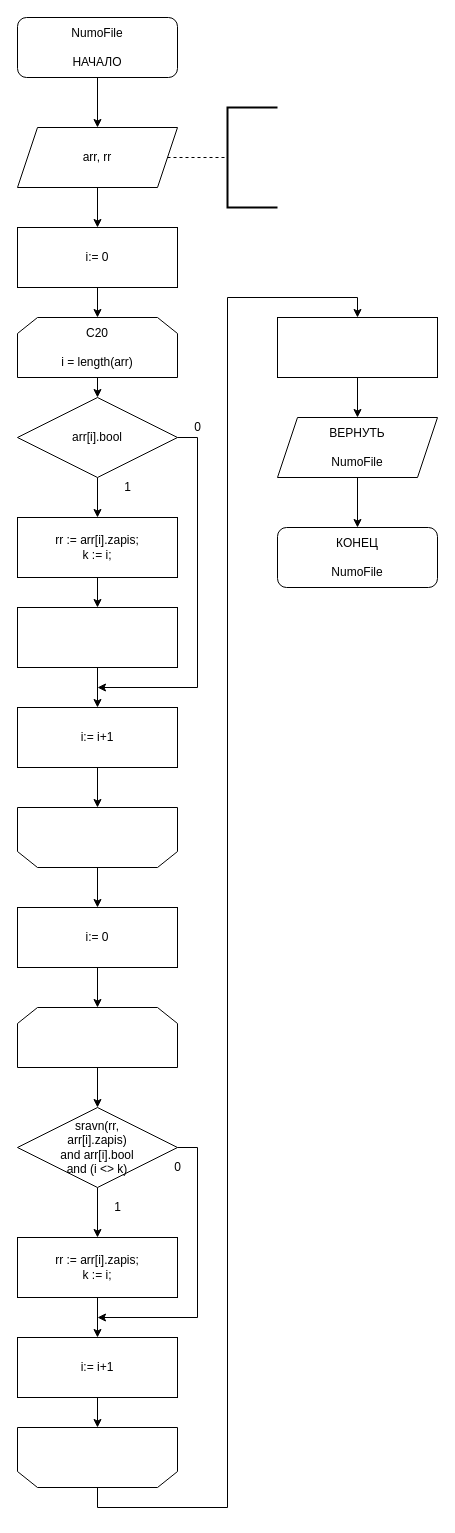
Some shapes in this 455 by 1533 pixel diagram are drawn without their labels. Here are the shapes that lost their labels. From the top down, the centre of each, then its label:
At pixel 252 157: "arr - massTDoc по значению rr - TDoc по значению".
At pixel 357 347: "NumoFile:= k".
At pixel 97 637: "break".
At pixel 97 837: "C20".
At pixel 97 1037: "C21 i = length(arr)".
At pixel 97 1457: "C21".
